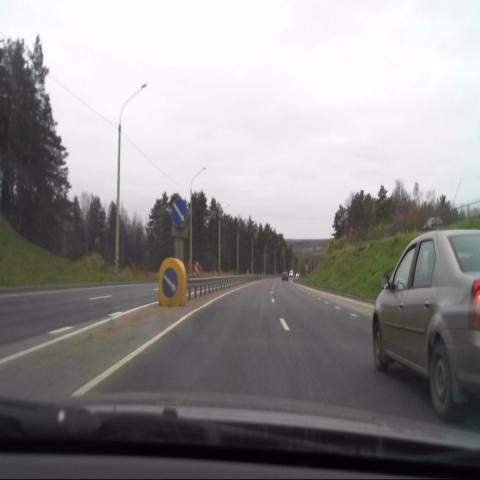4_2_1: (160, 264, 179, 297)
